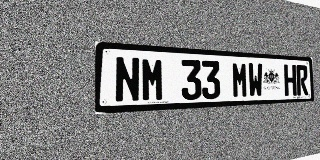3: (181, 59, 201, 100), (201, 60, 220, 99)
H: (284, 64, 297, 96)
M: (141, 57, 164, 102), (232, 62, 248, 98)
N: (114, 56, 140, 103)
R: (296, 65, 308, 96)
W: (248, 63, 263, 98)
